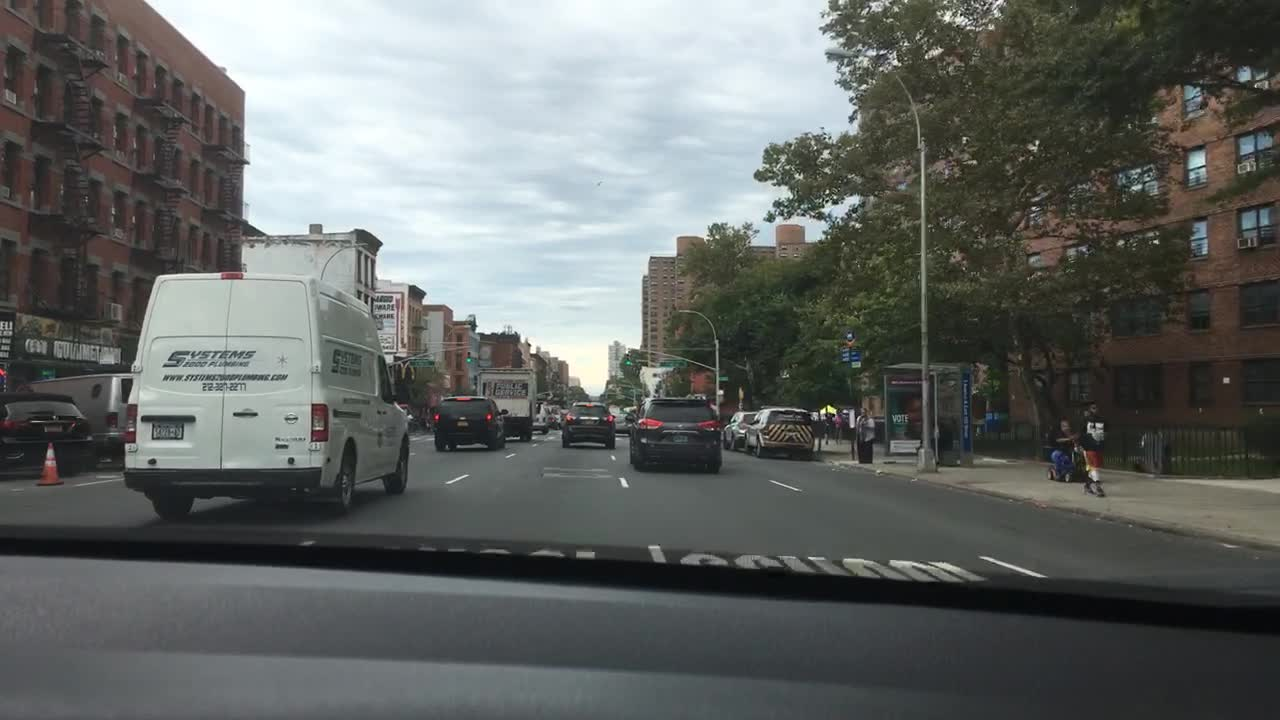bike: (1047, 458, 1086, 480)
car: (118, 270, 412, 519), (16, 370, 142, 467), (0, 389, 96, 472), (628, 395, 723, 474), (433, 394, 508, 452), (746, 405, 816, 459), (560, 400, 616, 449), (722, 407, 756, 451), (609, 405, 632, 432), (536, 400, 553, 434), (551, 400, 563, 426)
person: (1080, 401, 1106, 469), (1140, 425, 1166, 470), (857, 409, 876, 461), (831, 407, 843, 443), (822, 413, 832, 445)
rider: (1059, 418, 1077, 460)
traffic light: (463, 350, 472, 364), (623, 351, 631, 365)
traffic sign: (408, 353, 434, 367)
truck: (476, 367, 536, 442)
